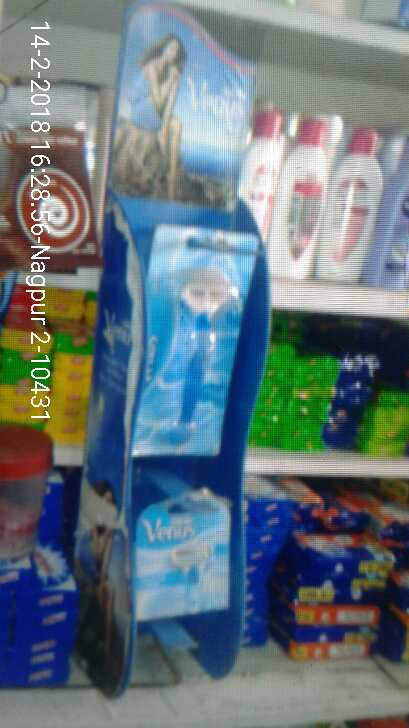venus: (133, 220, 253, 455), (133, 491, 231, 611)
